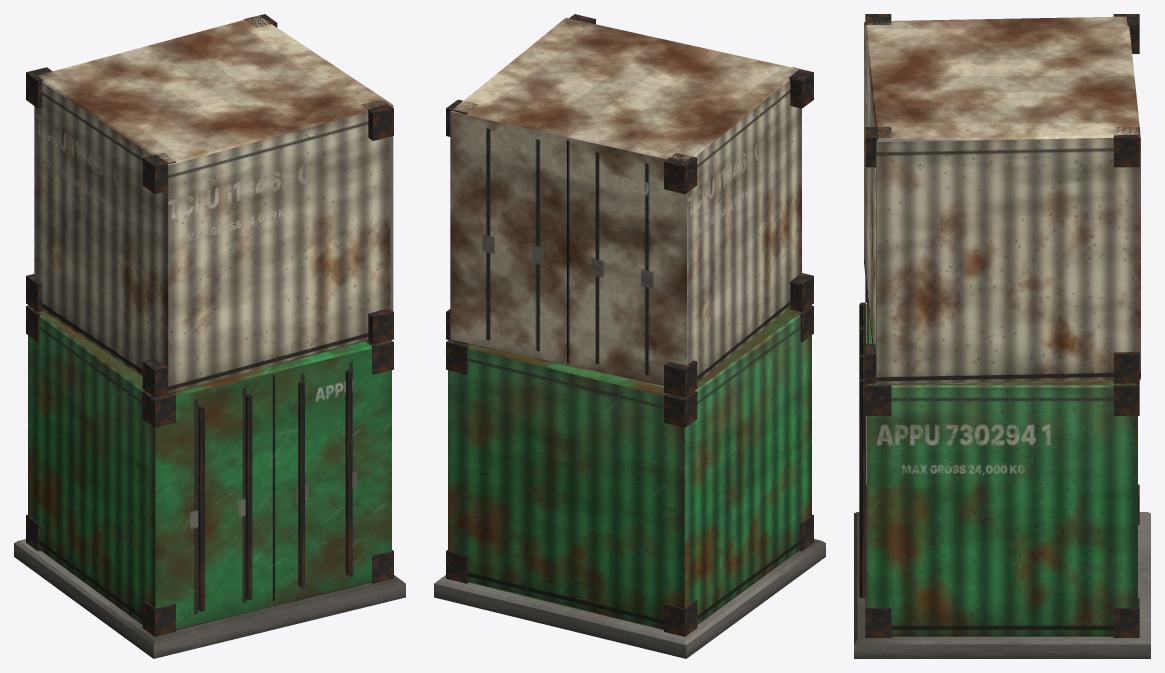
Rendered from prop_pillar_container_b-nWszwMbO.glb.
3 renders of one model, left to right at view 1: azimuth 30°, elevation 25°; view 2: azimuth 150°, elevation 25°; view 3: azimuth 270°, elevation 25°, orthographic. The views are drawn at different scales.
Visible parts, largest first — view 1: prop_pillar_container_b_body; view 2: prop_pillar_container_b_body; view 3: prop_pillar_container_b_body.
Boxes of the visible parts, bbox=[...] form: prop_pillar_container_b_body: bbox=[14, 14, 405, 658]; prop_pillar_container_b_body: bbox=[434, 14, 825, 658]; prop_pillar_container_b_body: bbox=[854, 14, 1150, 658].
Size of the model in its own units: 0.96 by 1.77 by 0.92.
Materials: 1 (1 with a texture image).
